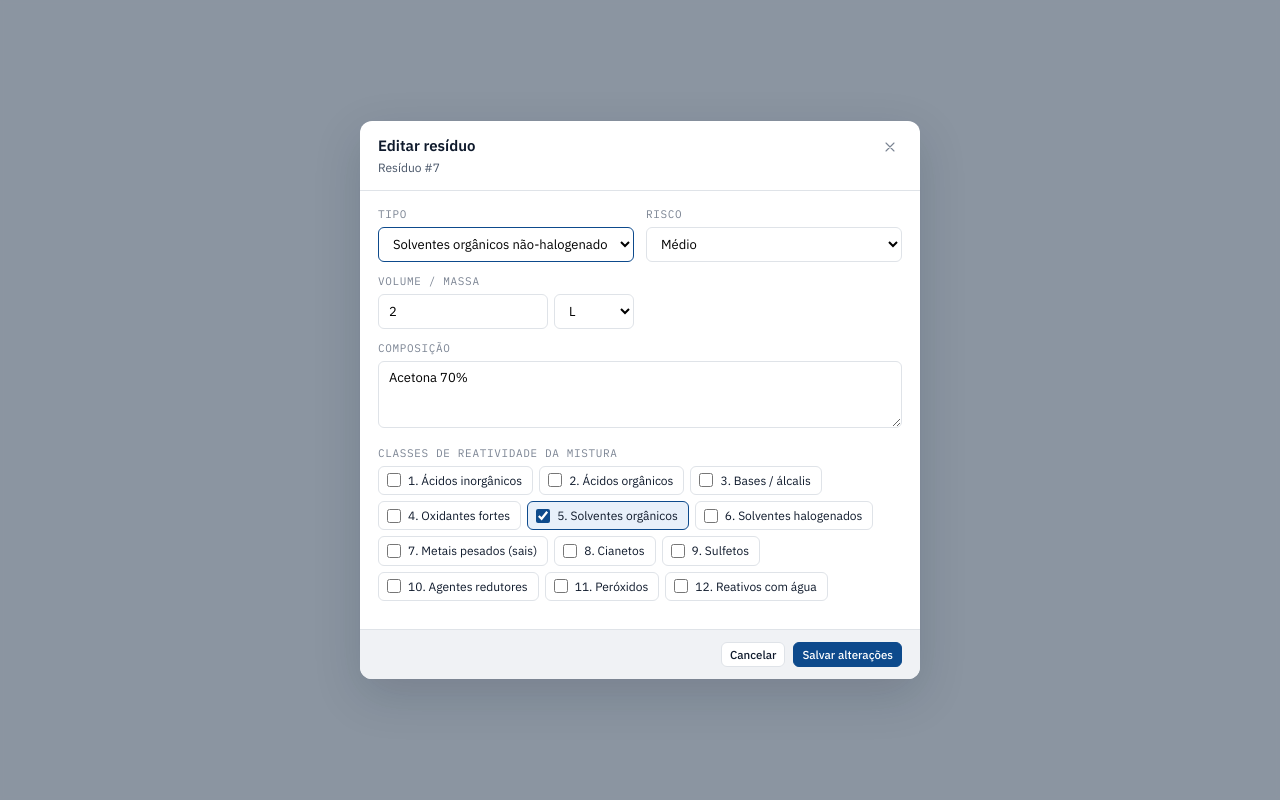
Test: FormEditarResiduo — classificação › impede salvar um resíduo classificado com todas as classes desmarcadas
expect the button "Salvar alterações" is enabled: met, box [793, 642, 902, 667]
What coordinates should you click on to do the following:
click the checkbox labelled "5. Solventes orgânicos"
I would click on:
 (543, 516)
Its box is [536, 509, 550, 523].
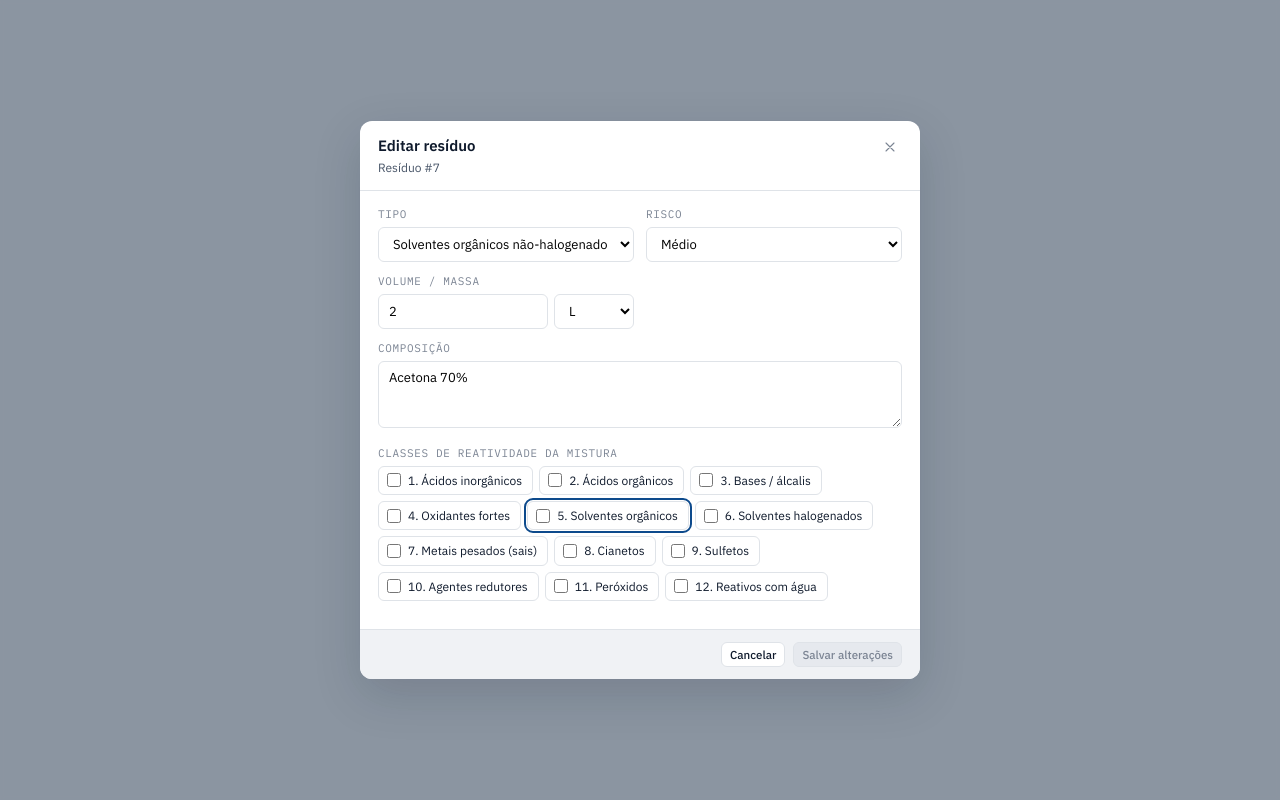
expect the button "Salvar alterações" is disabled: met, box [793, 642, 902, 667]
